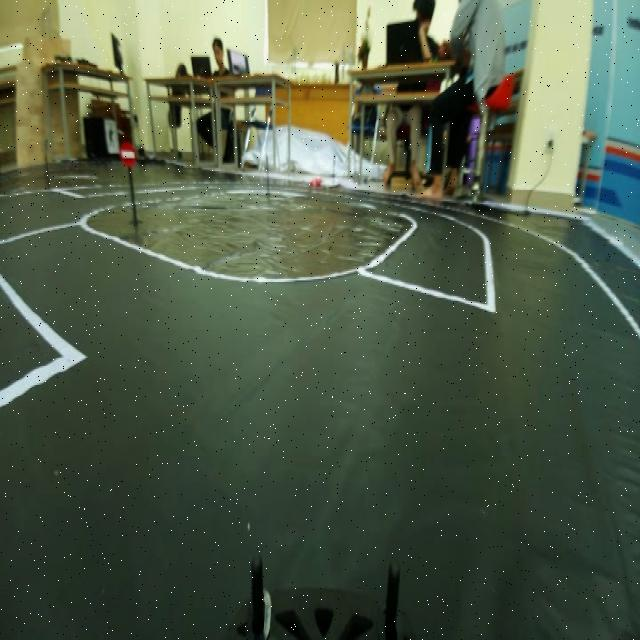no_entry: (115, 138, 138, 168)
